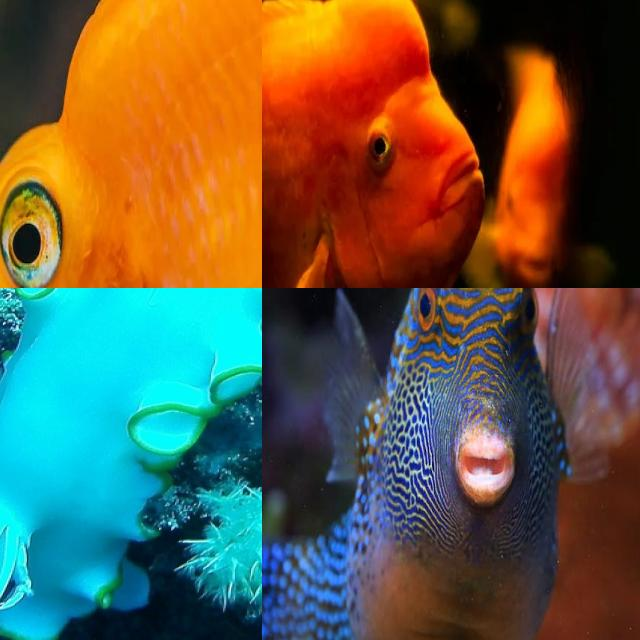fish: (262, 288, 640, 640), (0, 288, 262, 640), (0, 0, 262, 288), (262, 0, 481, 288)
